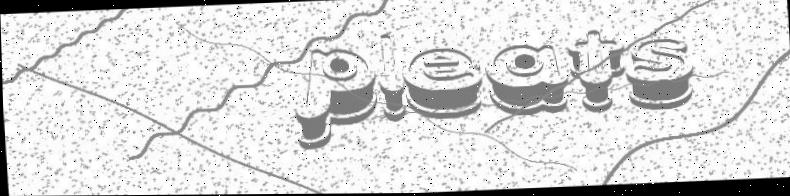a: (485, 44, 569, 116)
e: (402, 47, 483, 121)
l: (374, 34, 407, 123)
p: (293, 46, 379, 150)
s: (625, 39, 694, 110)
t: (566, 30, 624, 115)
